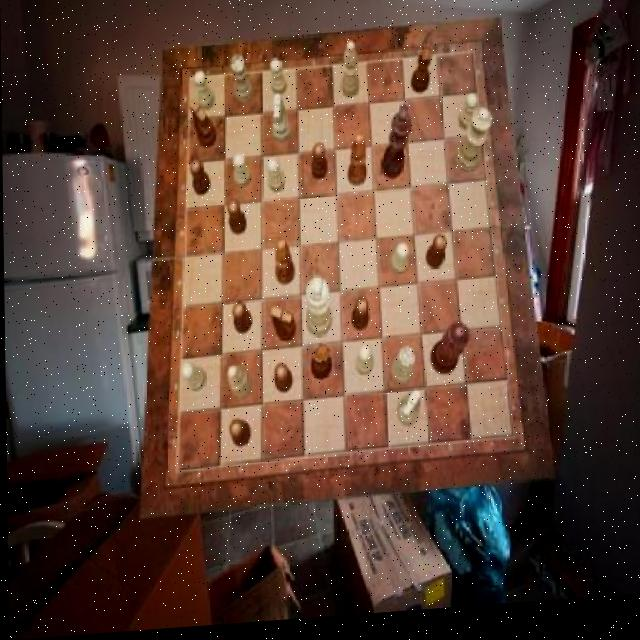bishop: (346, 139, 366, 192), (274, 243, 295, 290)
black-bishop: (380, 110, 412, 186)
black-king: (189, 102, 216, 152), (270, 309, 295, 346)
black-knight: (190, 160, 210, 199), (227, 201, 247, 238), (426, 242, 447, 277), (231, 305, 252, 339), (311, 147, 328, 184), (228, 423, 249, 452), (272, 366, 292, 396), (350, 304, 368, 337)
black-pawn: (429, 328, 469, 383)
black-queen: (410, 52, 433, 101), (309, 347, 332, 386)
black-rook: (341, 47, 359, 104), (228, 367, 253, 403)
white-bishop: (305, 281, 333, 342)
white-king: (270, 97, 291, 147), (397, 394, 422, 433)
white-knight: (195, 74, 215, 115), (458, 98, 479, 137), (180, 364, 204, 396), (270, 62, 287, 101), (267, 162, 285, 198), (233, 156, 251, 191), (391, 249, 409, 282), (355, 349, 373, 381)
white-pawn: (454, 113, 492, 179)
white-queen: (231, 59, 253, 108), (389, 351, 413, 390)
